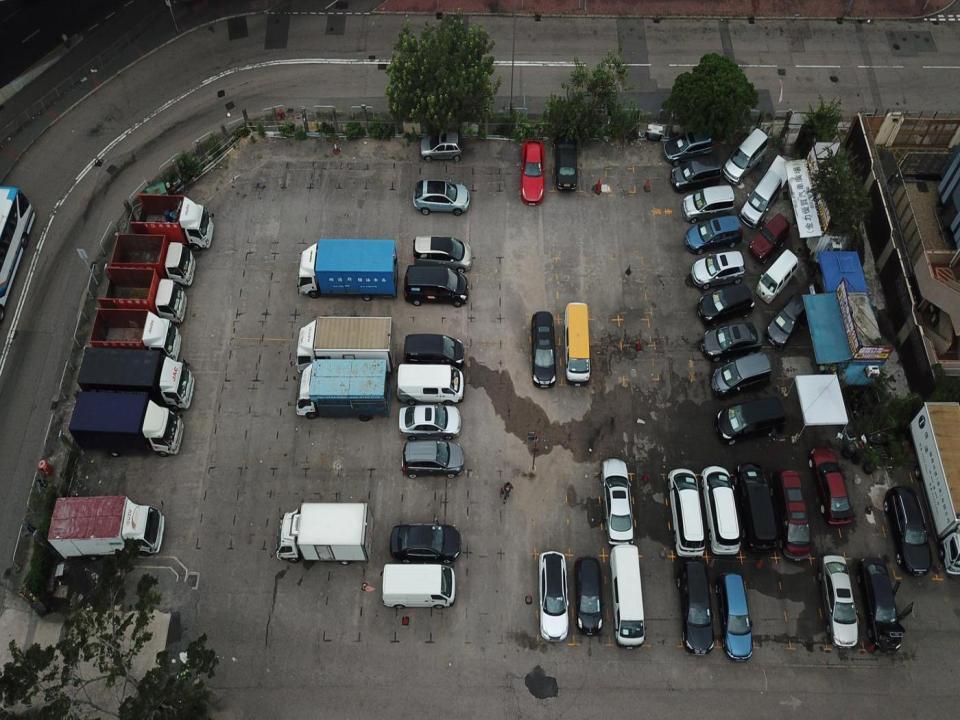car: (854, 550, 914, 655), (880, 478, 930, 576), (674, 552, 718, 655), (807, 440, 854, 529), (734, 458, 776, 553), (773, 460, 810, 563), (701, 460, 740, 553), (822, 552, 859, 650), (665, 464, 705, 554), (389, 518, 462, 567), (718, 396, 786, 448), (718, 570, 755, 664), (704, 354, 774, 403), (600, 455, 637, 547), (536, 549, 570, 644), (403, 260, 470, 308), (698, 319, 766, 366), (400, 433, 464, 479), (570, 554, 603, 640), (413, 173, 472, 218), (528, 309, 561, 389), (401, 331, 470, 369), (398, 400, 462, 439), (725, 128, 771, 182), (768, 292, 812, 348), (410, 233, 475, 270), (697, 282, 754, 324), (687, 250, 744, 292), (518, 134, 548, 210), (744, 167, 780, 228), (685, 211, 737, 253), (663, 124, 715, 165), (682, 182, 734, 220), (669, 153, 722, 190), (418, 125, 464, 167), (551, 129, 580, 191), (750, 214, 785, 259)
truck: (911, 396, 960, 570), (69, 389, 187, 461), (46, 493, 166, 563), (76, 346, 196, 410), (291, 356, 391, 425), (274, 500, 376, 566), (298, 236, 399, 302), (294, 315, 398, 374), (86, 301, 188, 361), (128, 190, 216, 257), (95, 267, 189, 325), (109, 226, 196, 279)
van: (382, 560, 457, 614), (611, 543, 644, 647), (394, 360, 467, 403), (562, 298, 595, 386), (757, 244, 798, 301)
